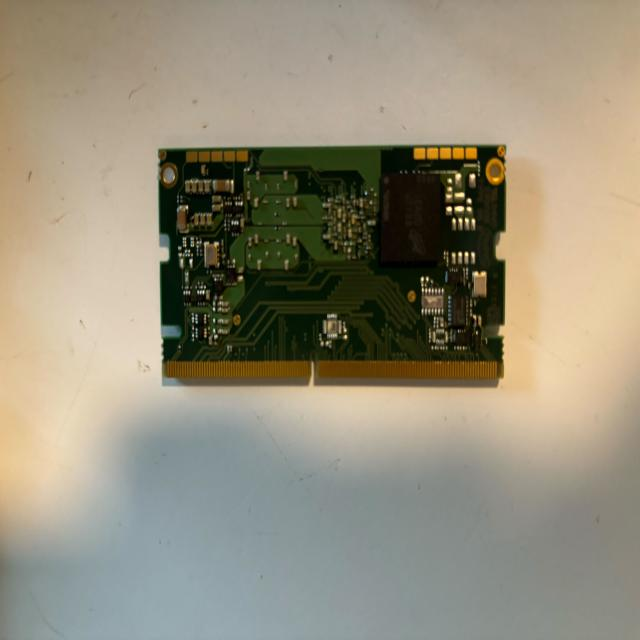som: (154, 136, 516, 388)
